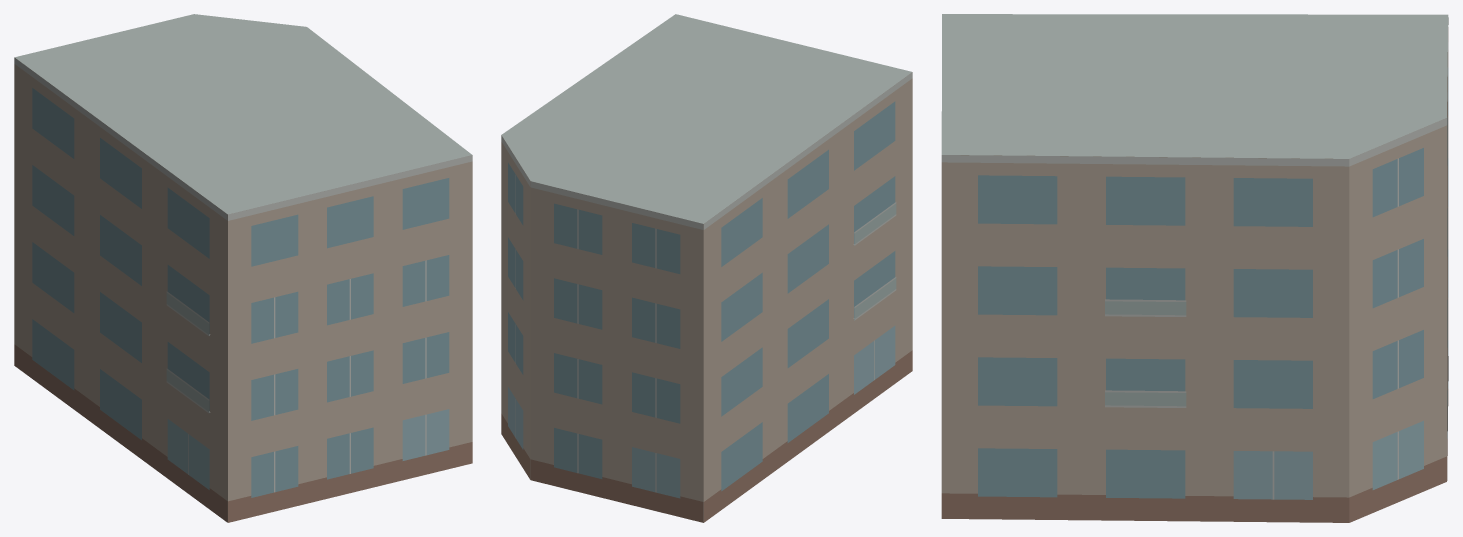
File: survey-upis-32739725.glb
The picture shows the model from 3 angles, left to right: view 1: azimuth 30°, elevation 25°; view 2: azimuth 150°, elevation 25°; view 3: azimuth 270°, elevation 25°; orthographic projection. The views are drawn at different scales.
Visible parts, largest first — view 1: survey-upis-32739725.tmp; view 2: survey-upis-32739725.tmp; view 3: survey-upis-32739725.tmp.
Boxes of the visible parts, box(x1,y1,x2,y2) form: survey-upis-32739725.tmp: box(14, 14, 472, 522); survey-upis-32739725.tmp: box(501, 14, 912, 522); survey-upis-32739725.tmp: box(941, 14, 1448, 522).
Size of the model in its own units: 10.03 by 11.7 by 14.78.
